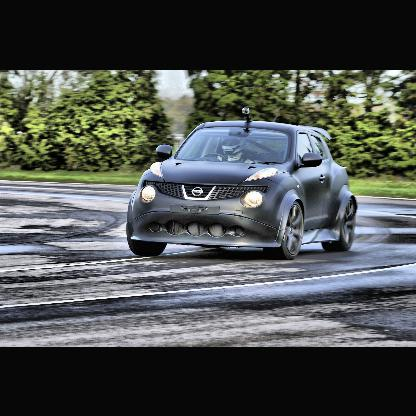Nissan Juke Hatchback 2012: (126, 105, 360, 262)
